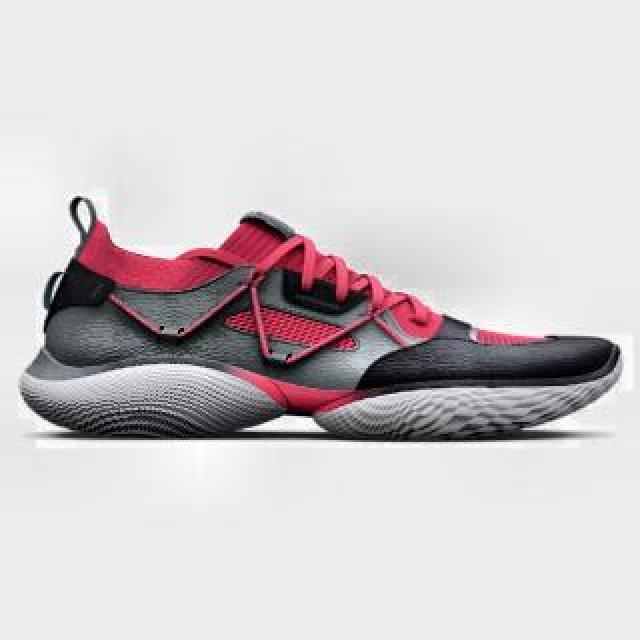shoes: (21, 198, 621, 440)
